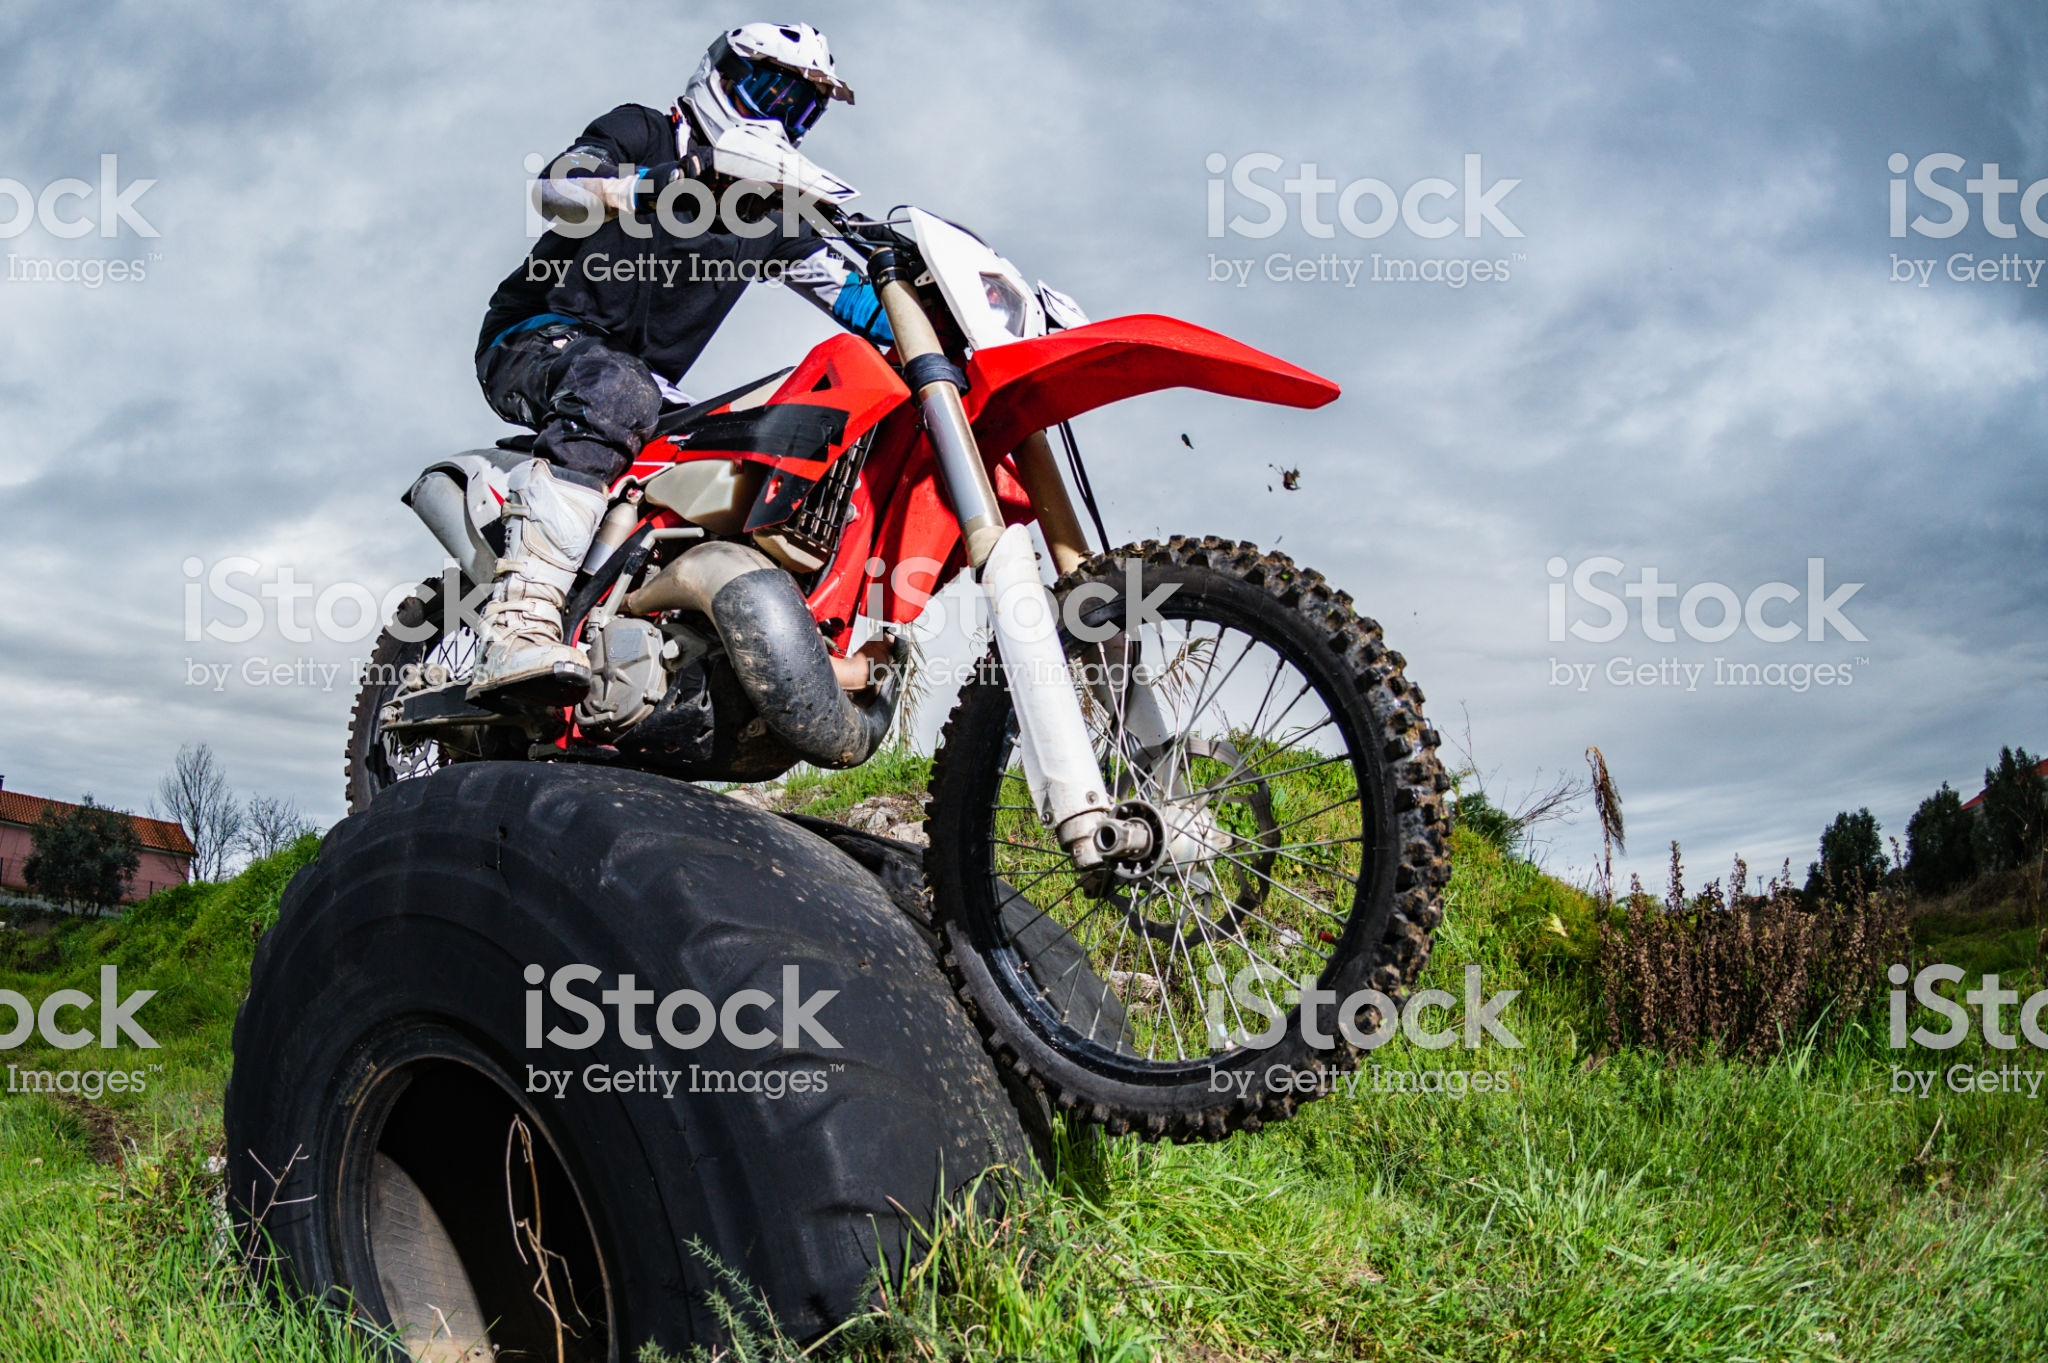helmet: (681, 17, 864, 189)
